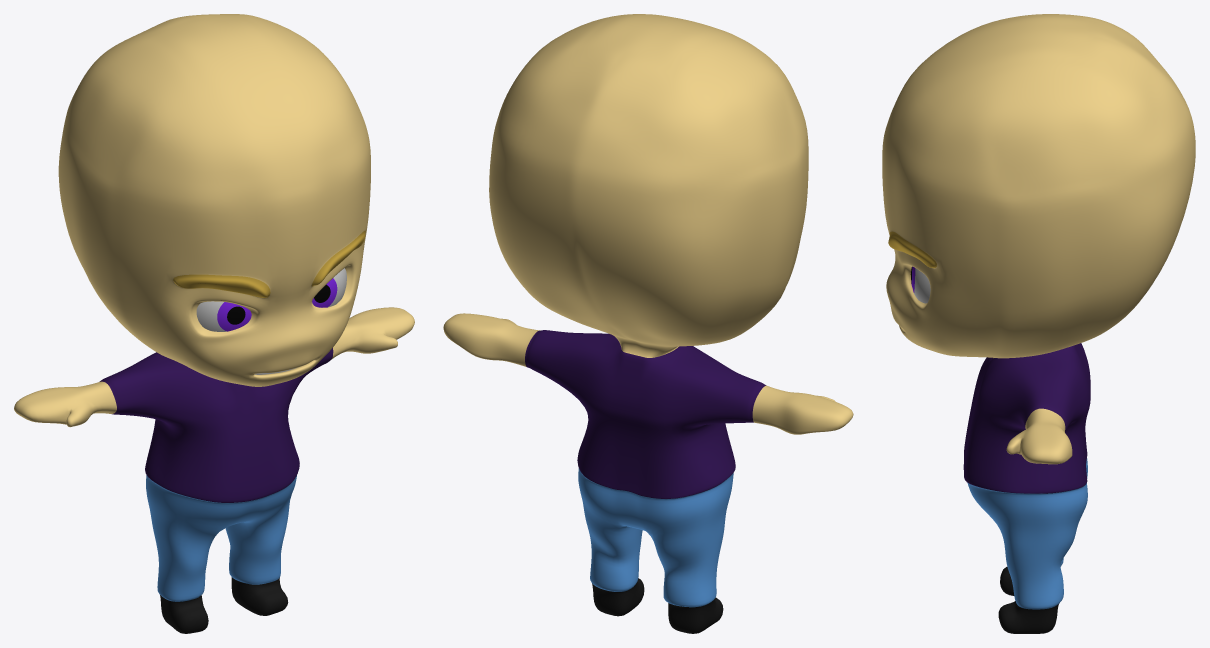
File: patient.fbx
3 renders of one model, left to right at view 1: azimuth 30°, elevation 25°; view 2: azimuth 150°, elevation 25°; view 3: azimuth 270°, elevation 25°, orthographic. The views are drawn at different scales.
Visible parts, largest first — view 1: Cube, Cube.002, Cube.001; view 2: Cube; view 3: Cube, Cube.001.
Boxes of the visible parts, box(x1,y1,x2,y2) form: Cube: box(14, 14, 414, 633); Cube.002: box(196, 301, 251, 331); Cube.001: box(312, 268, 346, 307); Cube: box(443, 14, 853, 633); Cube: box(882, 14, 1195, 633); Cube.001: box(910, 266, 930, 303).
Bounding box in the file's own units: 579 × 818 × 401.
